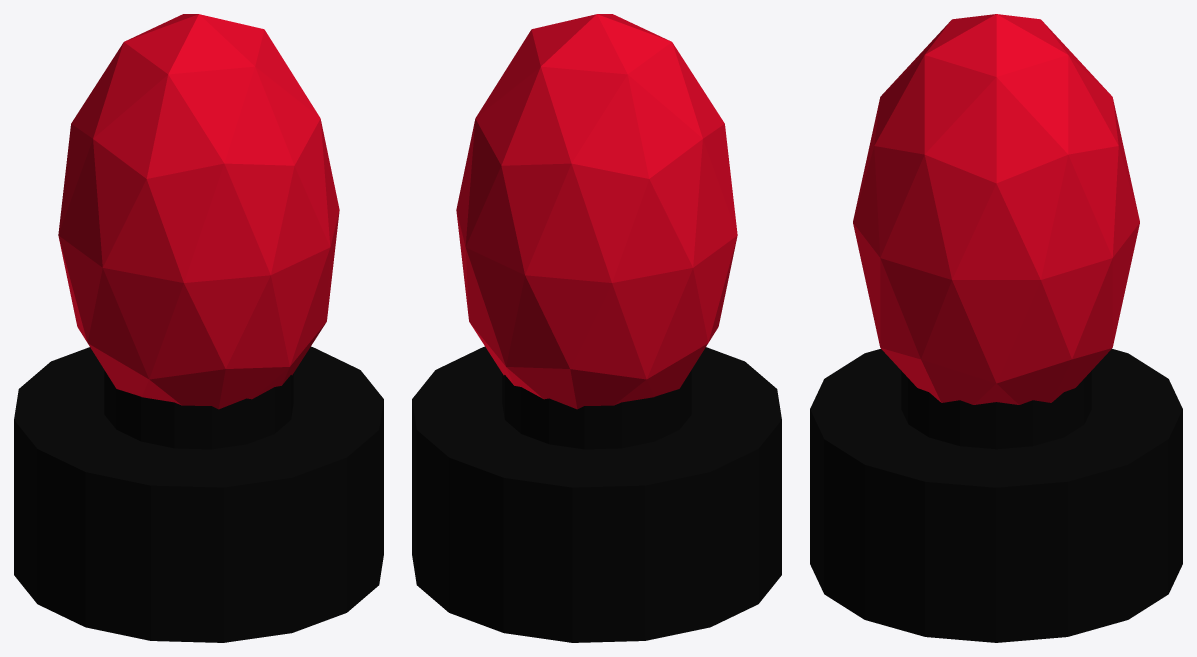
File: EmergencyLight.fbx
The picture shows the model from 3 angles, left to right: view 1: azimuth 30°, elevation 25°; view 2: azimuth 150°, elevation 25°; view 3: azimuth 270°, elevation 25°; orthographic projection.
Parts seen in each view (by area): view 1: EmergencyLight; view 2: EmergencyLight; view 3: EmergencyLight.
Boxes of the visible parts, x1=… form: EmergencyLight: x1=14, y1=14, x2=383, y2=642; EmergencyLight: x1=412, y1=14, x2=781, y2=642; EmergencyLight: x1=810, y1=14, x2=1182, y2=642.
Size of the model in its own units: 54.56 by 88.83 by 54.56.
